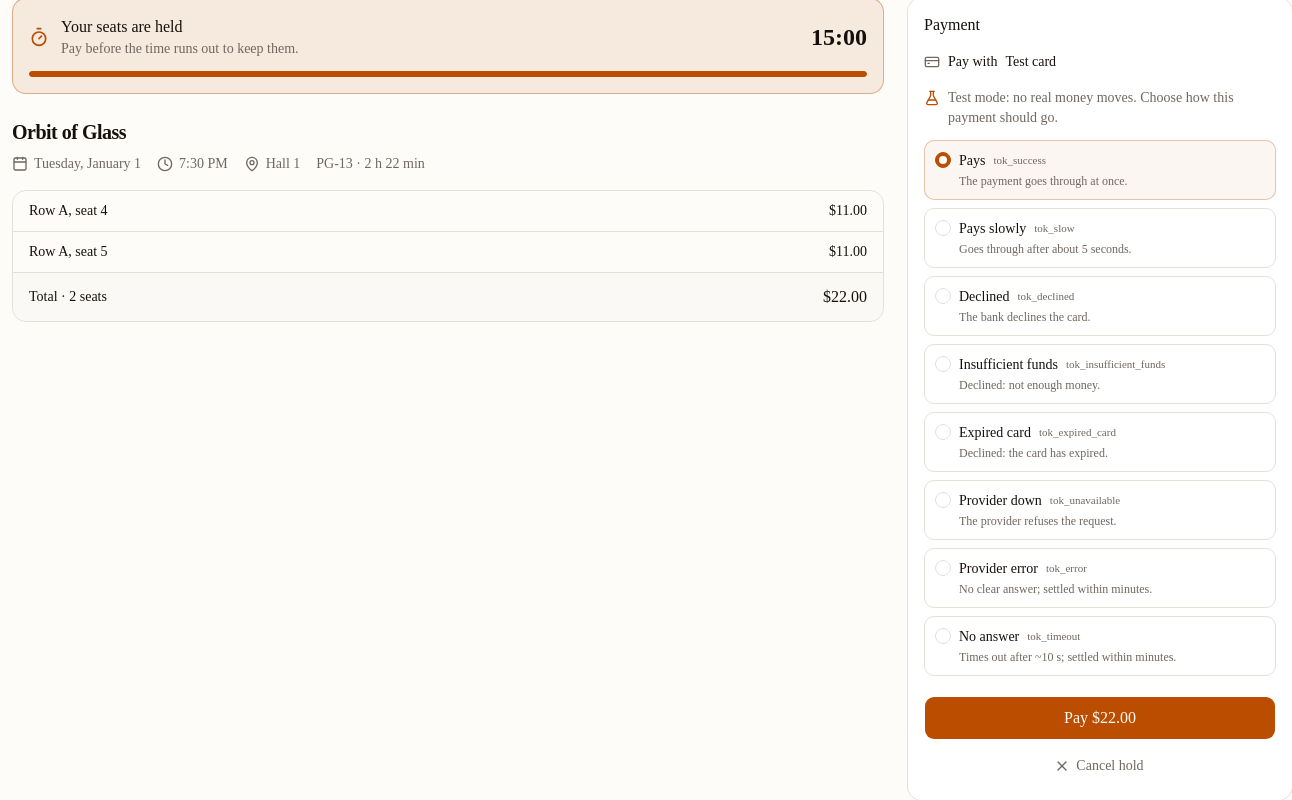
CheckoutView › PAYMENT_REFUNDED: says the late charge went back
This screenshot has width=1292, height=800.
(page scrolled)
What coordinates should you click on to do the following:
click the button "Pay $22.00"
I would click on:
 (1100, 718)
Its box is [924, 696, 1276, 740].
(page scrolled)
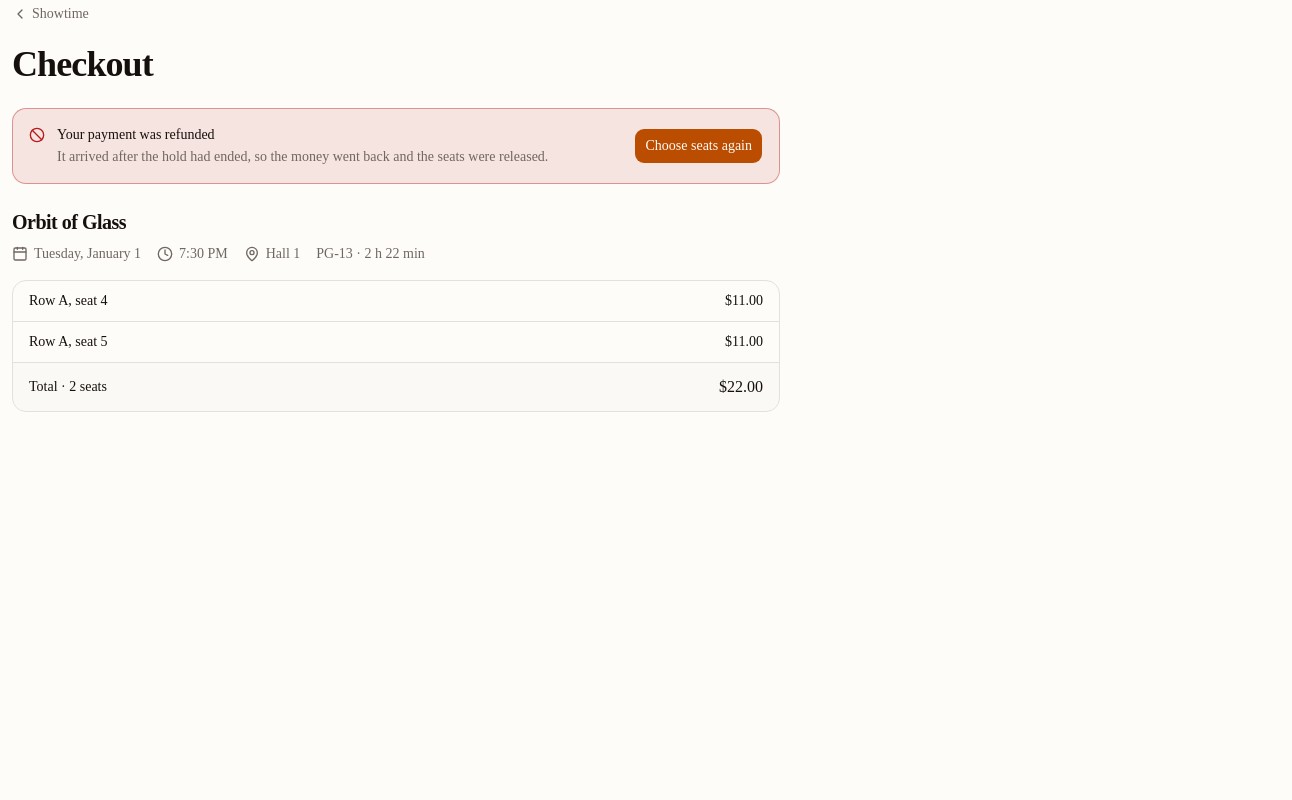
Check: the text "Your payment was refunded" is shown, box [57, 127, 215, 142]
Check: the link "Choose seats again" is shown, box [634, 128, 763, 164]
